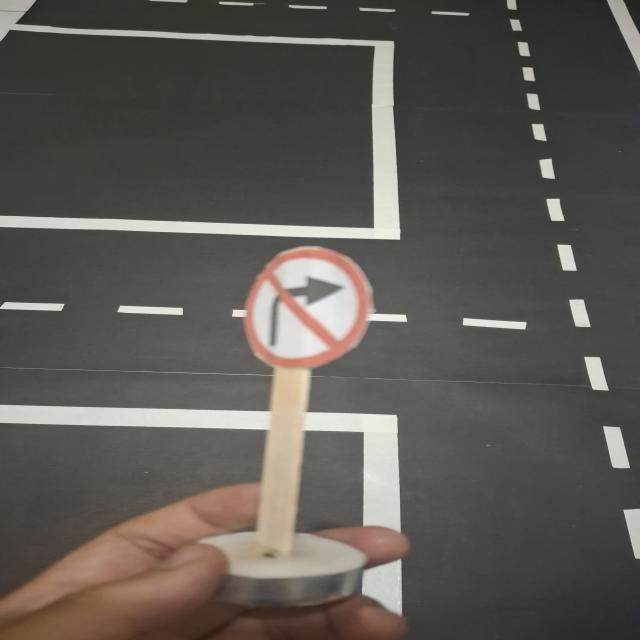Dilarang Belok Kanan: (241, 246, 376, 370)
